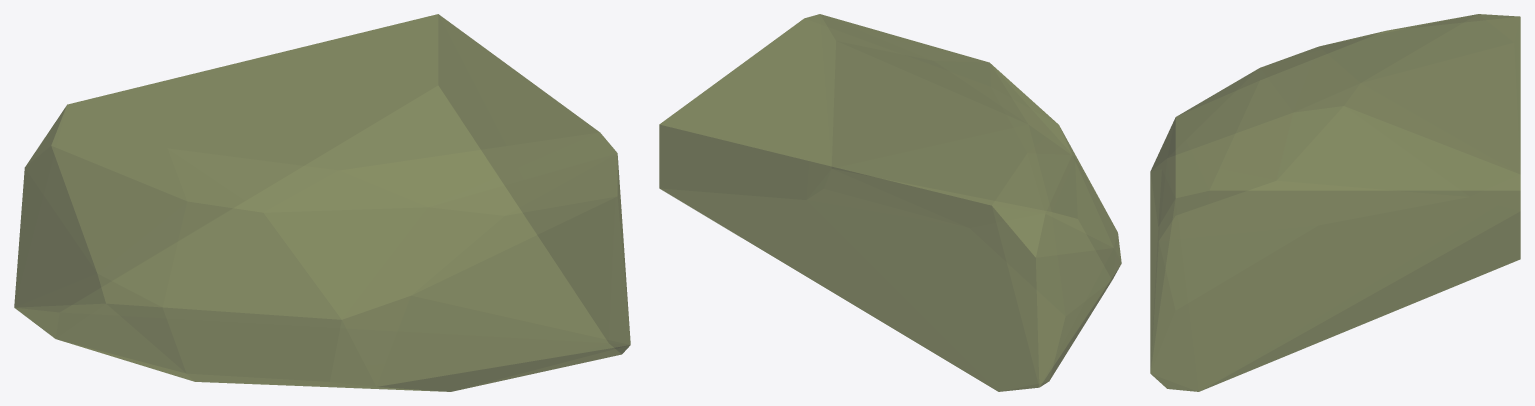
3 views of the same model, side by side, from view 1: azimuth 30°, elevation 25°; view 2: azimuth 150°, elevation 25°; view 3: azimuth 270°, elevation 25° (orthographic). The views are drawn at different scales.
Parts seen in each view (by area): view 1: Shape_IndexedFaceSet.051_Shape_IndexedFaceSet.10686; view 2: Shape_IndexedFaceSet.051_Shape_IndexedFaceSet.10686; view 3: Shape_IndexedFaceSet.051_Shape_IndexedFaceSet.10686.
Part boxes in pixels (x1,y1,x2,y2): Shape_IndexedFaceSet.051_Shape_IndexedFaceSet.10686: (14, 14, 630, 391); Shape_IndexedFaceSet.051_Shape_IndexedFaceSet.10686: (659, 14, 1121, 391); Shape_IndexedFaceSet.051_Shape_IndexedFaceSet.10686: (1150, 14, 1520, 391).
Bounding box in the file's own units: 0.14 × 0.065 × 0.1092.
